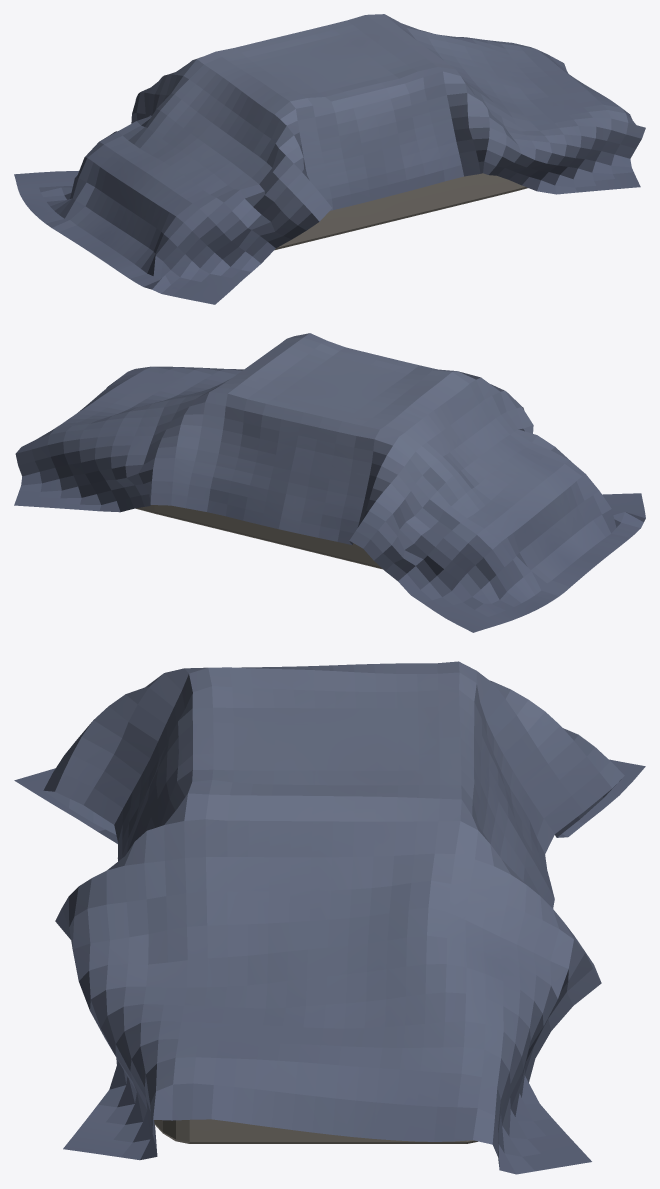
Rendered from Car.glb.
3 views of the same model, one above another, from view 1: azimuth 30°, elevation 25°; view 2: azimuth 150°, elevation 25°; view 3: azimuth 270°, elevation 25° (orthographic). The views are drawn at different scales.
Parts seen in each view (by area): view 1: CarTarp_Baked, Car_Baked; view 2: CarTarp_Baked, Car_Baked; view 3: CarTarp_Baked, Car_Baked.
Boxes of the visible parts, left/top/right/bottom form: CarTarp_Baked: left=14, top=14, right=645, bottom=304; Car_Baked: left=274, top=173, right=527, bottom=250; CarTarp_Baked: left=14, top=333, right=645, bottom=632; Car_Baked: left=136, top=505, right=382, bottom=569; CarTarp_Baked: left=14, top=661, right=645, bottom=1174; Car_Baked: left=154, top=1119, right=477, bottom=1143.
Size of the model in its own units: 26.23 by 6.18 by 15.88.
2 materials, 2 textured.
